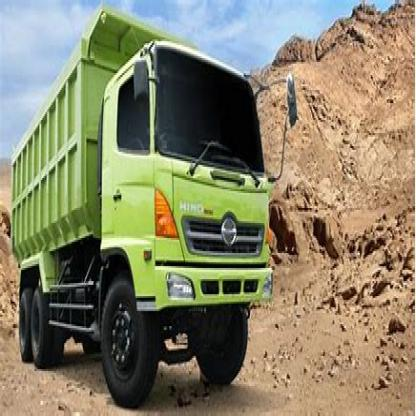dump_truck: (6, 8, 290, 414)
